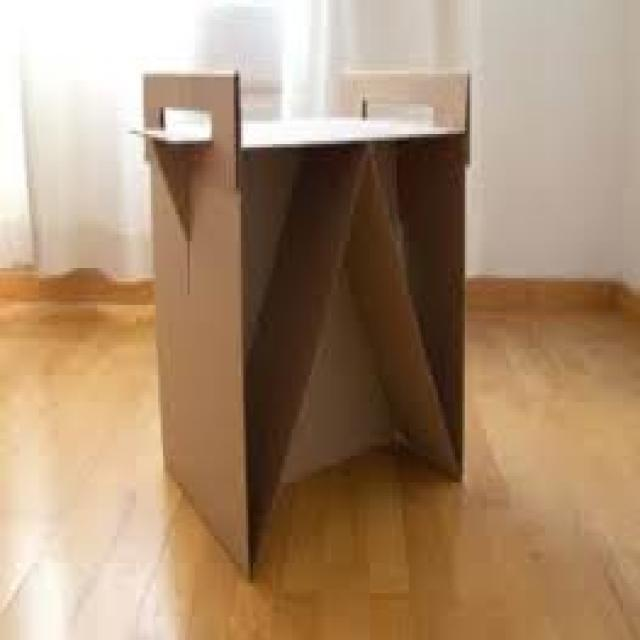Cardboard: (140, 57, 471, 568)
